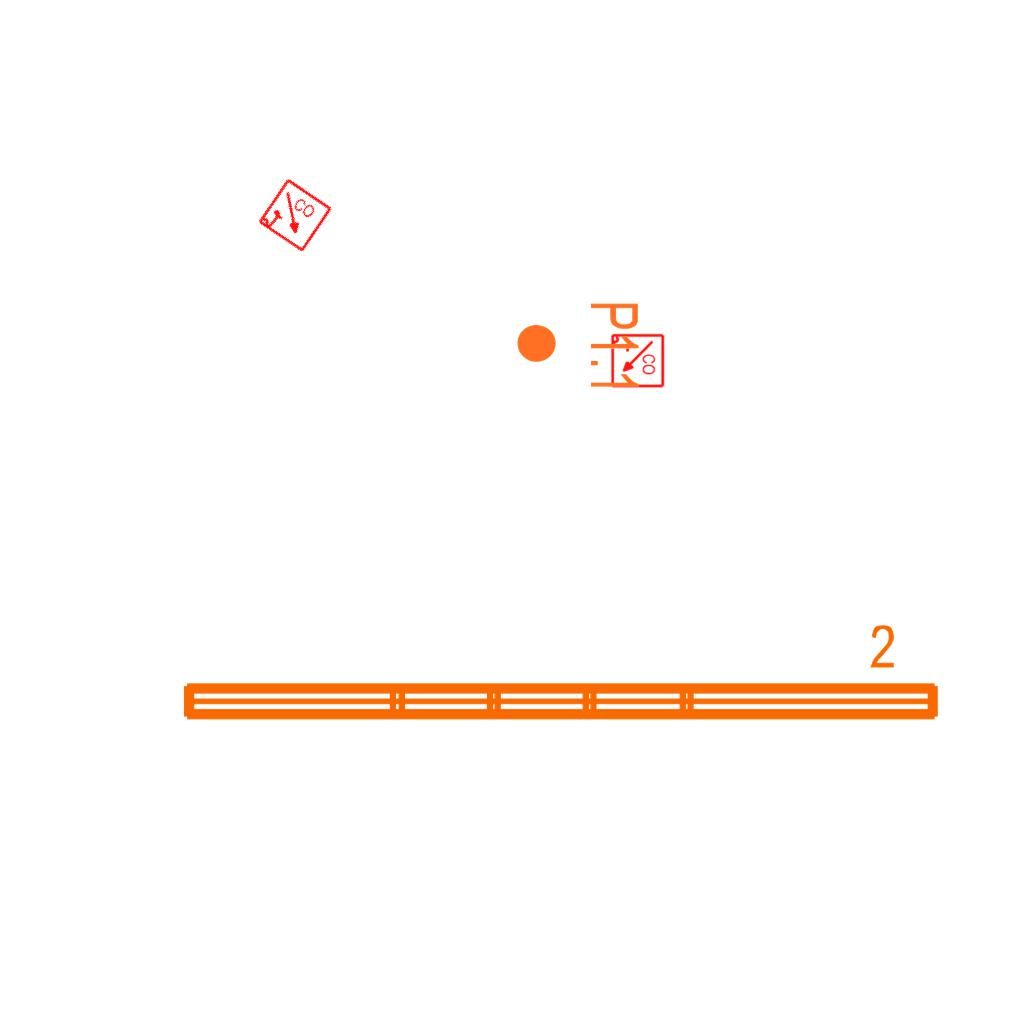Ambulanz_Pendelleuchte_LED: (173, 620, 947, 732)
Downlight_LED_Einbauleuchten_Flur: (514, 300, 642, 393)
ROA_Rauchmelder_optisch_mit_Signalgeber_(Sockelsirene): (256, 177, 334, 255), (609, 333, 665, 389)
